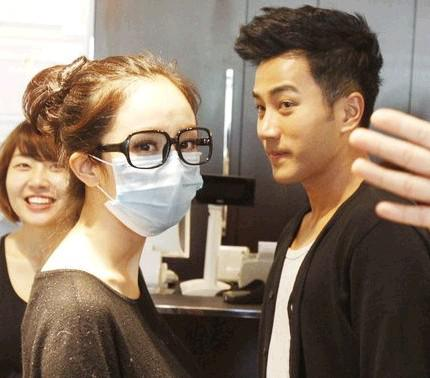NONE: (253, 77, 341, 182), (10, 153, 77, 226)
OK: (101, 124, 212, 235)
